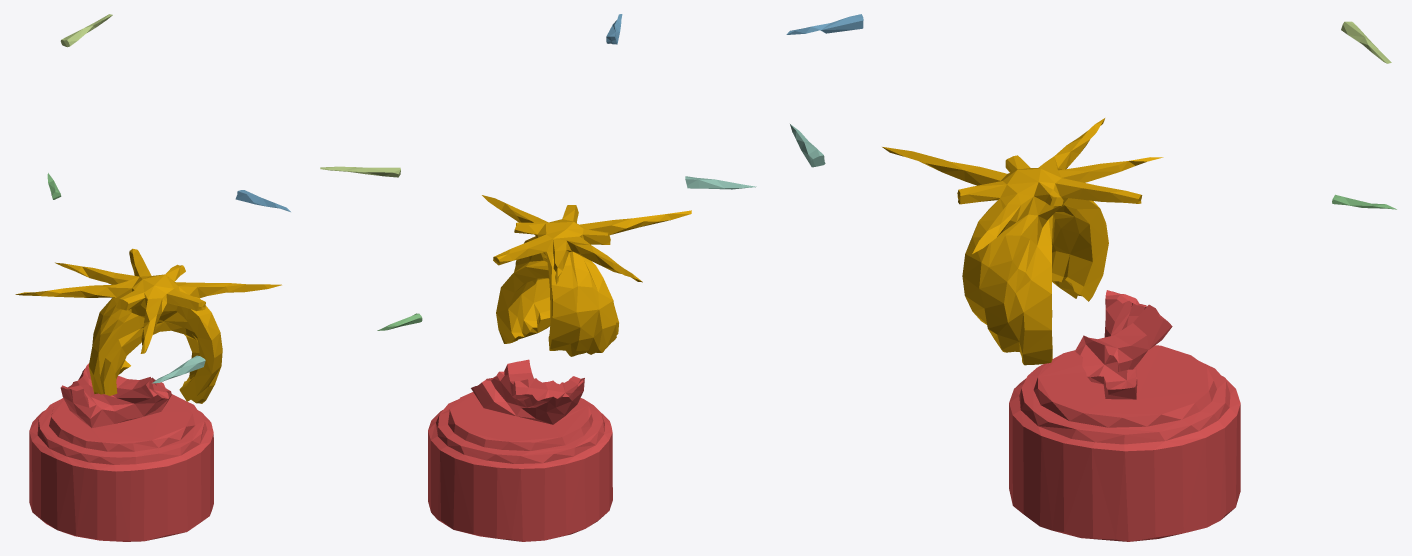
Rendered from fractured_51_6pcs_transformed.glb.
The picture shows the model from 3 angles, left to right: view 1: azimuth 30°, elevation 25°; view 2: azimuth 150°, elevation 25°; view 3: azimuth 270°, elevation 25°; orthographic projection. The views are drawn at different scales.
Parts seen in each view (by area): view 1: piece_1.obj, piece_0.obj, piece_4.obj, piece_2.obj, piece_5.obj; view 2: piece_1.obj, piece_0.obj, piece_4.obj, piece_5.obj; view 3: piece_1.obj, piece_0.obj, piece_2.obj.
Boxes of the visible parts, box(x1,y1,x2,y2) form: piece_1.obj: box(29, 363, 213, 541); piece_0.obj: box(15, 248, 281, 403); piece_4.obj: box(152, 355, 205, 383); piece_2.obj: box(235, 190, 290, 211); piece_5.obj: box(60, 14, 112, 47); piece_1.obj: box(428, 359, 612, 541); piece_0.obj: box(482, 195, 691, 356); piece_4.obj: box(685, 176, 756, 189); piece_5.obj: box(320, 166, 400, 177); piece_1.obj: box(1009, 290, 1240, 541); piece_0.obj: box(882, 118, 1163, 365); piece_2.obj: box(786, 14, 863, 34).
Size of the model in its own units: 0.9659 by 1.68 by 1.89.
